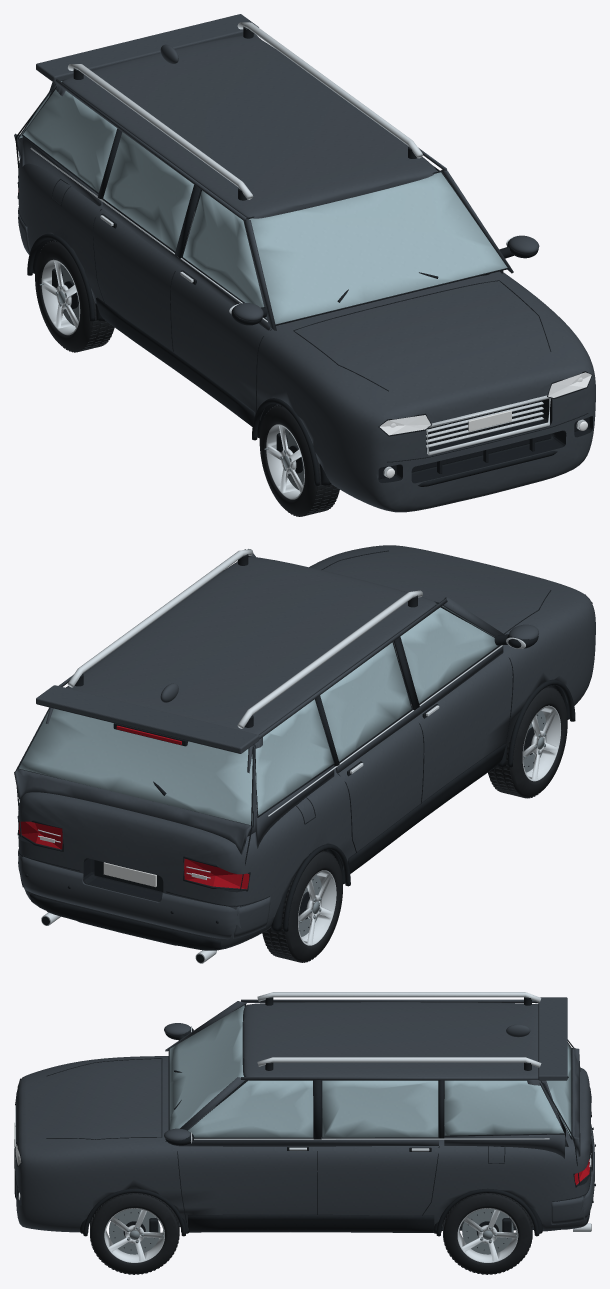
Rendered from suv.fbx.
The picture shows the model from 3 angles, top to bottom: view 1: azimuth 30°, elevation 25°; view 2: azimuth 150°, elevation 25°; view 3: azimuth 270°, elevation 25°; orthographic projection. The views are drawn at different scales.
Visible parts, largest first — view 1: Body, Wheel_FL, Wheel_RL; view 2: Body, Damage_Rear_Bumper, Wheel_RL, Wheel_FL; view 3: Body, Wheel_RR, Wheel_FR, Damage_Rear_Bumper.
Part boxes in pixels (box(x1,y1,x2,y2)): Body: box(14, 14, 595, 516); Wheel_FL: box(259, 406, 339, 516); Wheel_RL: box(35, 241, 114, 351); Body: box(14, 545, 595, 963); Damage_Rear_Bumper: box(18, 849, 270, 939); Wheel_RL: box(262, 851, 342, 962); Wheel_FL: box(488, 687, 567, 797); Body: box(14, 992, 595, 1274); Wheel_RR: box(443, 1193, 532, 1274); Wheel_FR: box(90, 1193, 178, 1274); Damage_Rear_Bumper: box(551, 1124, 594, 1224).
Size of the model in its own units: 2.24 by 1.83 by 4.76.
